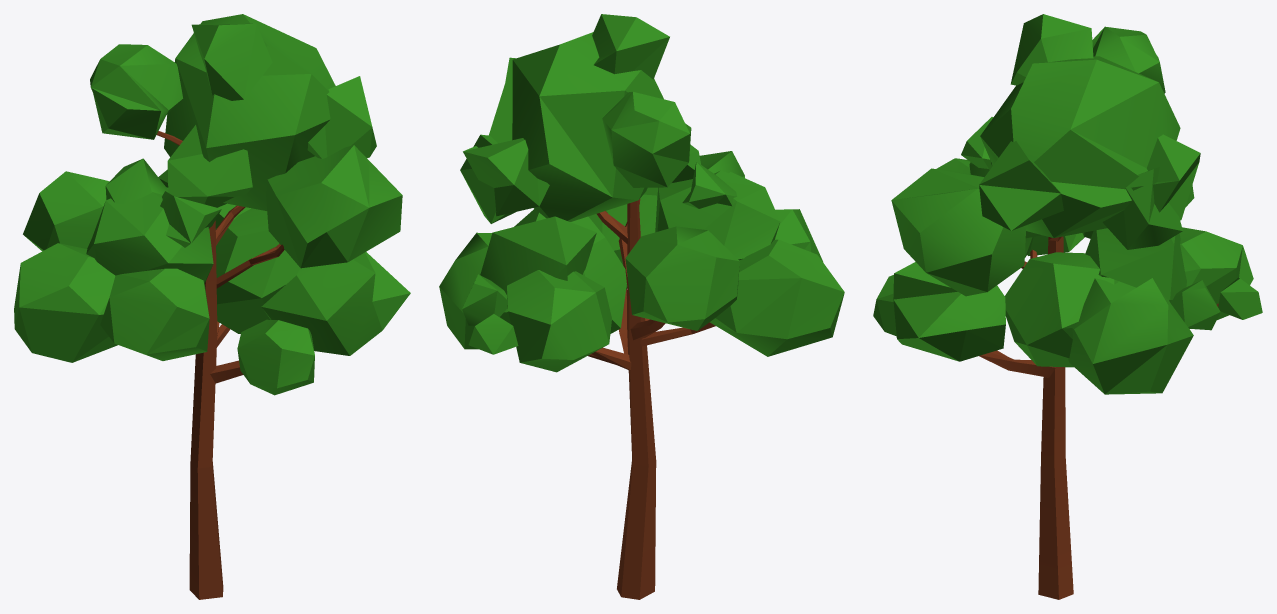
File: Tree_00.FBX
The picture shows the model from 3 angles, left to right: view 1: azimuth 30°, elevation 25°; view 2: azimuth 150°, elevation 25°; view 3: azimuth 270°, elevation 25°; orthographic projection.
Parts seen in each view (by area): view 1: Leaves_03, Leaves_04, Leaves_01, Leaves_07, Trunk, Leaves_10, Leaves_11, Leaves_00, Leaves_05, Leaves_13, Leaves_06; view 2: Leaves_03, Trunk, Leaves_07, Leaves_06, Leaves_12, Leaves_01, Leaves_00, Leaves_02, Leaves_08, Leaves_05, Leaves_09, Leaves_10 (+2 smaller); view 3: Leaves_03, Leaves_04, Leaves_08, Leaves_10, Leaves_05, Trunk, Leaves_02, Leaves_12, Leaves_00, Leaves_09, Leaves_14, Leaves_01 (+2 smaller).
Part boxes in pixels (x1,y1,x2,y2): Leaves_03: (164,14,376,210); Leaves_04: (266,145,402,268); Leaves_01: (86,158,221,283); Leaves_07: (14,243,117,362); Trunk: (156,131,284,599); Leaves_10: (261,252,410,355); Leaves_11: (100,268,209,360); Leaves_00: (90,44,182,139); Leaves_05: (215,208,300,333); Leaves_13: (237,319,314,395); Leaves_06: (23,171,109,251); Leaves_03: (460,14,700,223); Trunk: (588,199,715,599); Leaves_07: (710,239,844,356); Leaves_06: (625,226,739,330); Leaves_12: (507,270,611,372); Leaves_01: (655,151,780,260); Leaves_00: (602,91,691,187); Leaves_02: (480,216,596,294); Leaves_08: (439,232,510,349); Leaves_05: (514,209,626,333); Leaves_09: (462,274,507,325); Leaves_10: (588,194,657,288); Leaves_03: (979,14,1200,249); Leaves_04: (891,168,1026,296); Leaves_08: (1068,278,1193,394); Leaves_10: (893,262,1005,361); Leaves_05: (1005,252,1118,367); Trunk: (979,236,1218,599); Leaves_02: (1085,228,1186,299); Leaves_12: (1179,227,1253,319); Leaves_00: (1092,26,1165,93); Leaves_09: (1169,280,1220,330); Leaves_14: (1218,277,1262,319); Leaves_01: (961,117,1041,238).
Bounding box in the file's own units: 31.91 × 50.2 × 30.57.
